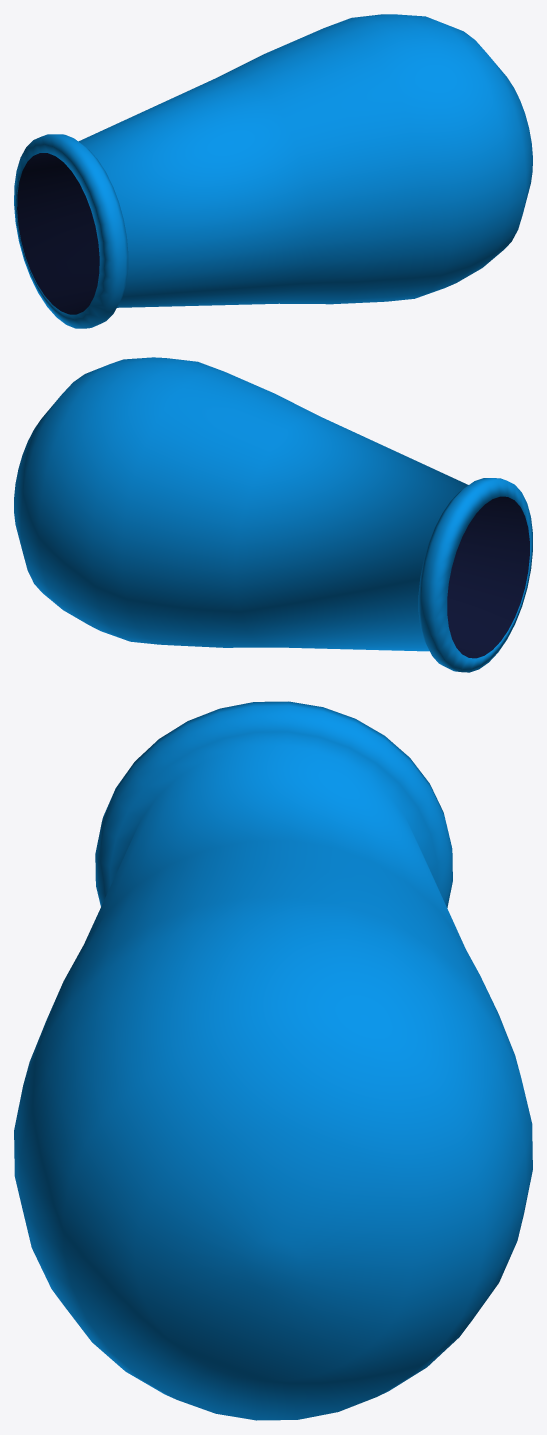
File: jeBEM TI MATER RADI.fbx
The picture shows the model from 3 angles, top to bottom: view 1: azimuth 30°, elevation 25°; view 2: azimuth 150°, elevation 25°; view 3: azimuth 270°, elevation 25°; orthographic projection. The views are drawn at different scales.
Visible parts, largest first — view 1: Cylinder.002; view 2: Cylinder.002; view 3: Cylinder.002.
Boxes of the visible parts, left/top/right/bottom form: Cylinder.002: left=14, top=14, right=532, bottom=328; Cylinder.002: left=14, top=357, right=532, bottom=672; Cylinder.002: left=14, top=701, right=532, bottom=1420.
Size of the model in its own units: 497 by 273 by 273.
